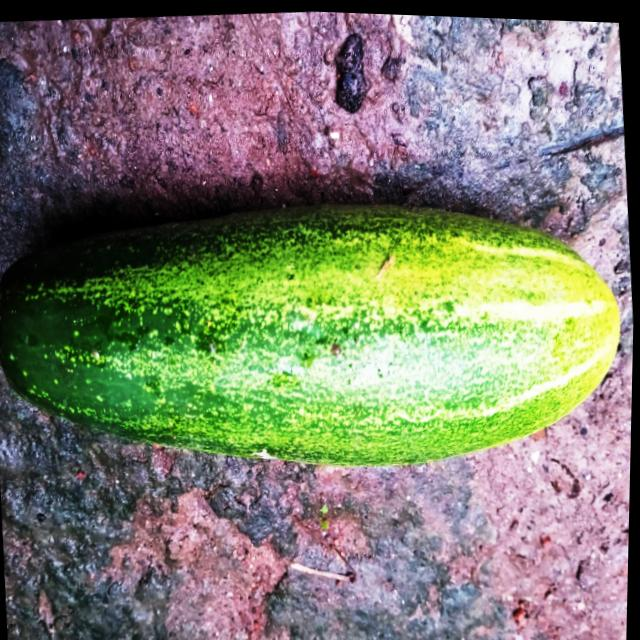Fresh-Cucumber: (0, 170, 633, 496)
